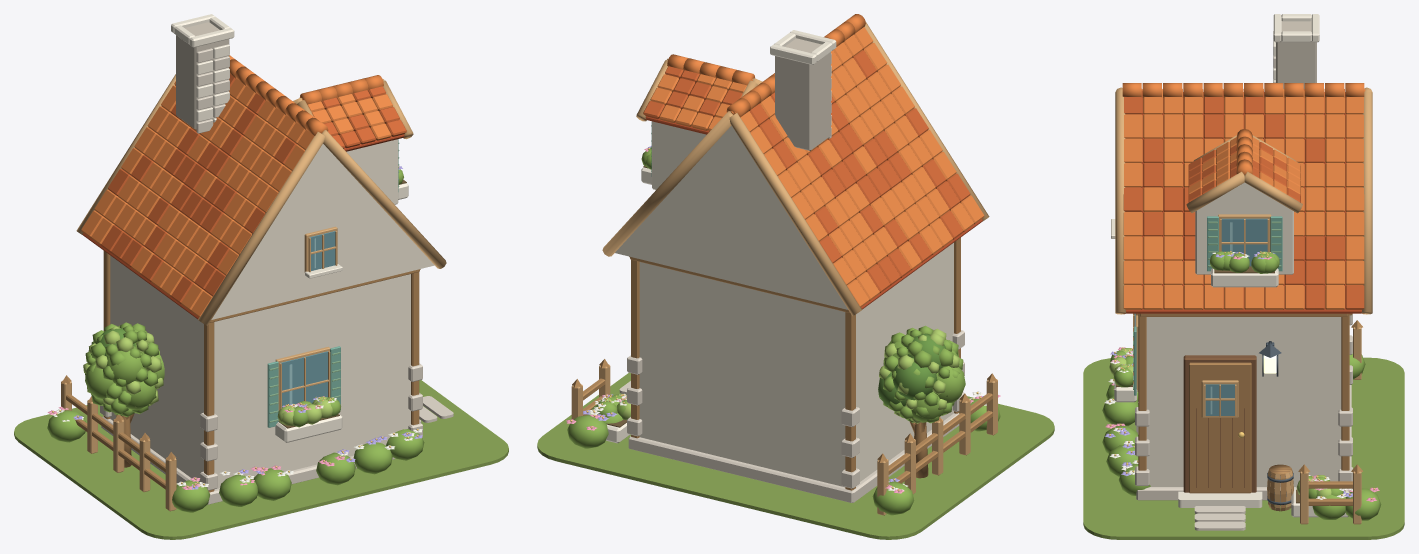
File: home_house_reference.glb
3 renders of one model, left to right at view 1: azimuth 30°, elevation 25°; view 2: azimuth 150°, elevation 25°; view 3: azimuth 270°, elevation 25°, orthographic. The views are drawn at different scales.
Parts seen in each view (by area): view 1: main_roof, cottage_structure, garden_ground, gable_windows, single_dormer, garden_flowers, garden_tree, chimney, garden_fence, entry_path; view 2: main_roof, cottage_structure, garden_ground, single_dormer, garden_tree, chimney, garden_fence, garden_flowers; view 3: main_roof, cottage_structure, garden_ground, single_dormer, entry_door, garden_flowers, chimney, entry_path, garden_fence, gable_windows, barrel, porch_lantern.
Boxes of the visible parts, left/top/right/bottom form: main_roof: left=76, top=55, right=446, bottom=325; cottage_structure: left=100, top=251, right=422, bottom=504; garden_ground: left=14, top=380, right=508, bottom=539; gable_windows: left=267, top=226, right=342, bottom=442; single_dormer: left=293, top=75, right=413, bottom=204; garden_flowers: left=47, top=406, right=424, bottom=512; garden_tree: left=83, top=322, right=164, bottom=467; chimney: left=171, top=14, right=234, bottom=133; garden_fence: left=61, top=375, right=176, bottom=511; entry_path: left=419, top=396, right=453, bottom=422; main_roof: left=602, top=14, right=989, bottom=315; cottage_structure: left=627, top=237, right=964, bottom=502; garden_ground: left=537, top=372, right=1054, bottom=539; single_dormer: left=636, top=54, right=762, bottom=189; garden_tree: left=878, top=325, right=965, bottom=478; chimney: left=770, top=30, right=836, bottom=150; garden_fence: left=571, top=359, right=997, bottom=515; garden_flowers: left=566, top=391, right=1000, bottom=515; main_roof: left=1115, top=83, right=1372, bottom=314; cottage_structure: left=1135, top=313, right=1352, bottom=500; garden_ground: left=1083, top=357, right=1404, bottom=539; single_dormer: left=1186, top=129, right=1302, bottom=287; entry_door: left=1183, top=355, right=1256, bottom=493; garden_flowers: left=1102, top=354, right=1381, bottom=520; chimney: left=1273, top=14, right=1319, bottom=88; entry_path: left=1178, top=491, right=1262, bottom=530; garden_fence: left=1298, top=320, right=1362, bottom=524; gable_windows: left=1109, top=219, right=1138, bottom=402; barrel: left=1267, top=464, right=1293, bottom=511; porch_lantern: left=1259, top=341, right=1281, bottom=376.
Size of the model in its own units: 11.6 by 12.4 by 8.8.
